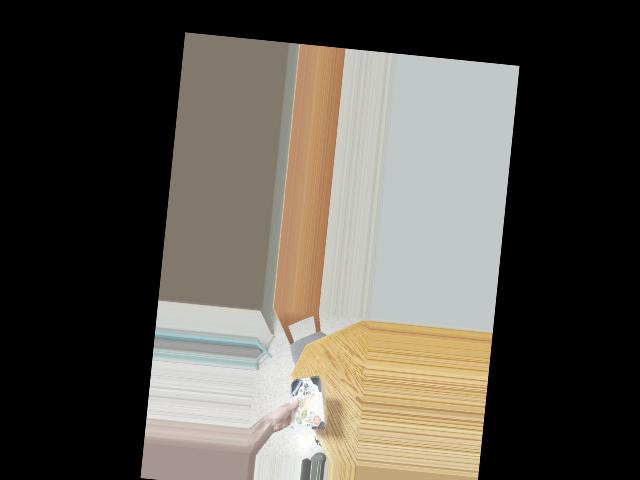cheese: (284, 374, 330, 431)
